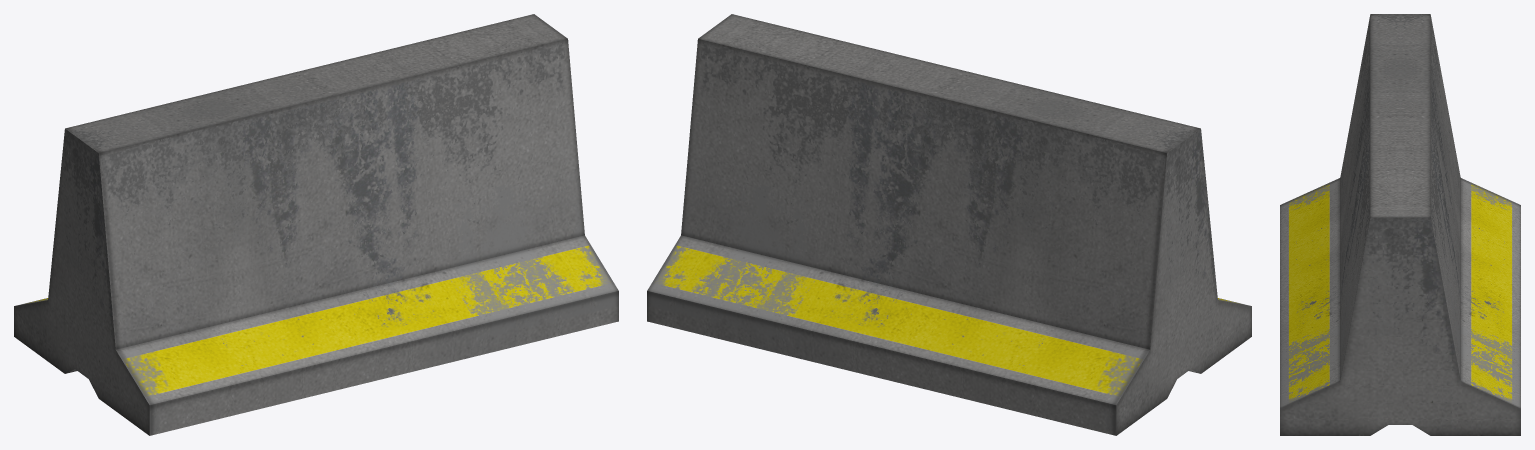
The model's file is barrier.obj.
3 views of the same model, side by side, from view 1: azimuth 30°, elevation 25°; view 2: azimuth 150°, elevation 25°; view 3: azimuth 270°, elevation 25° (orthographic). The views are drawn at different scales.
Parts seen in each view (by area): view 1: BARRIER_Cube; view 2: BARRIER_Cube; view 3: BARRIER_Cube.
Boxes of the visible parts, box(x1,y1,x2,y2) form: BARRIER_Cube: box(14, 14, 618, 435); BARRIER_Cube: box(647, 14, 1251, 435); BARRIER_Cube: box(1280, 14, 1520, 435).
Bounding box in the file's own units: 2 × 1 × 1.
1 material, 1 textured.
